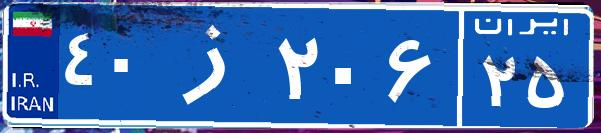0: (330, 28, 385, 110), (110, 28, 158, 105)
2: (273, 28, 330, 110), (475, 38, 525, 113)
4: (57, 26, 110, 107)
5: (525, 38, 570, 115)
6: (385, 28, 445, 110)
ز: (158, 15, 273, 115)
